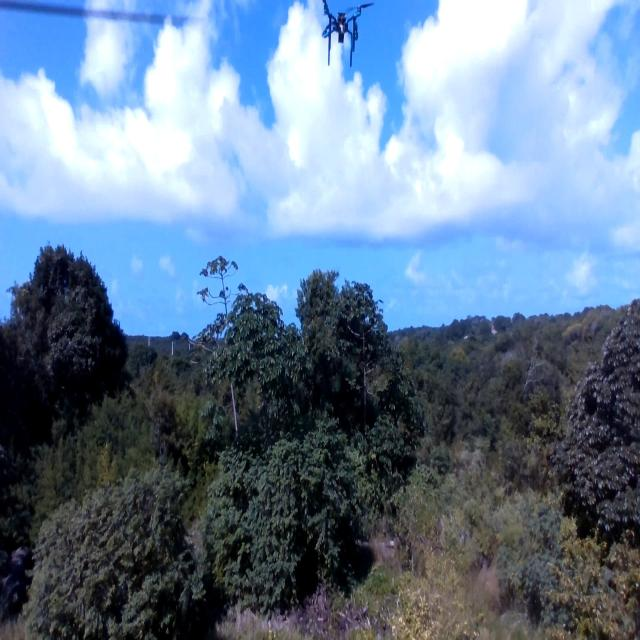-uav-: (316, 0, 375, 78)
